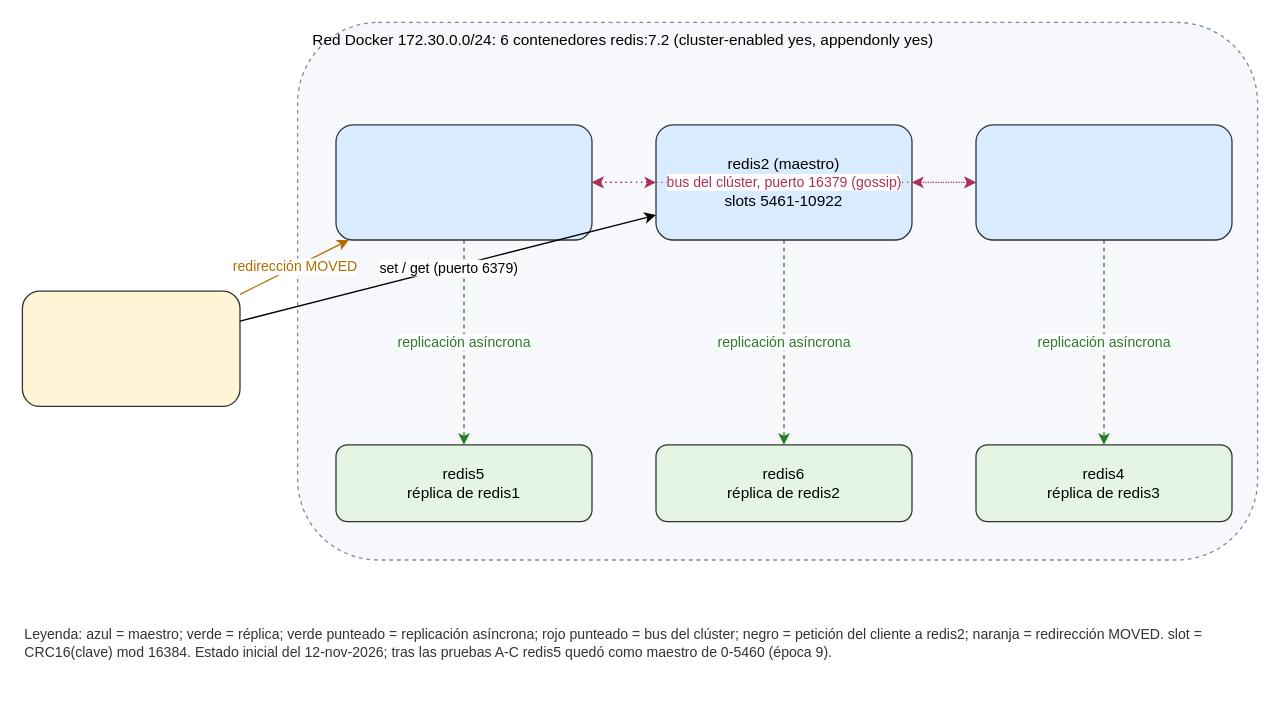
Some shapes in this 1286 by 723 pixel diagram are drawn without their labels. Each missing label, with the centre of its shape:
Cliente redis-cli -c (PowerShell, Windows): the point at 130,348
redis1 (maestro) 172.30.0.11:6379 slots 0-5460: the point at 463,182
redis3 (maestro) 172.30.0.13:6379 slots 10923-16383: the point at 1103,182
